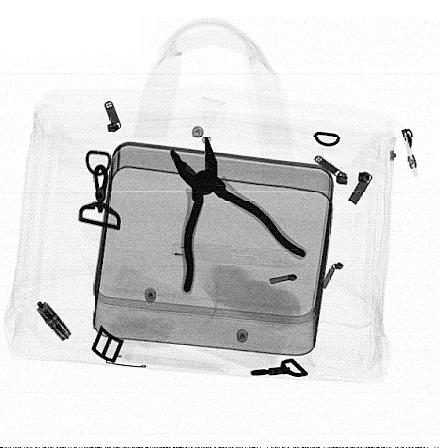Pliers: (167, 136, 307, 295)
